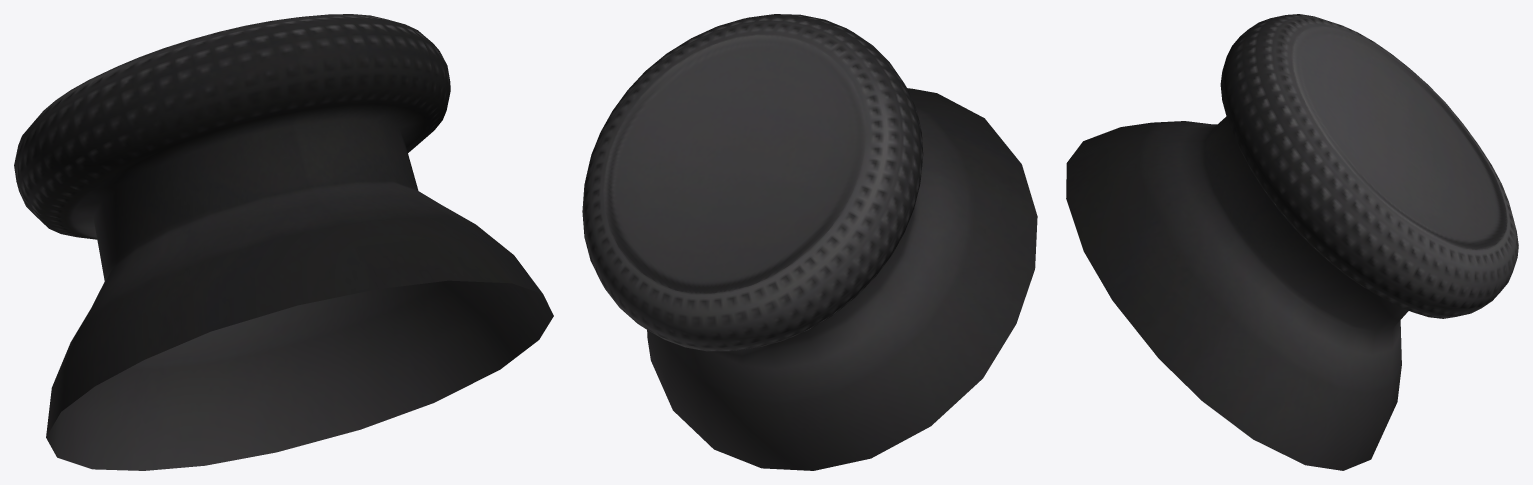
Rendered from L_thumbStick.obj.
3 renders of one model, left to right at view 1: azimuth 30°, elevation 25°; view 2: azimuth 150°, elevation 25°; view 3: azimuth 270°, elevation 25°, orthographic. The views are drawn at different scales.
Parts seen in each view (by area): view 1: L_thumbStick; view 2: L_thumbStick; view 3: L_thumbStick.
Boxes of the visible parts, left/top/right/bottom form: L_thumbStick: left=14, top=14, right=553, bottom=470; L_thumbStick: left=582, top=14, right=1037, bottom=470; L_thumbStick: left=1066, top=14, right=1518, bottom=470.
Bounding box in the file's own units: 0.0145 × 0.0151 × 0.0154.
Materials: 1 (1 with a texture image).
